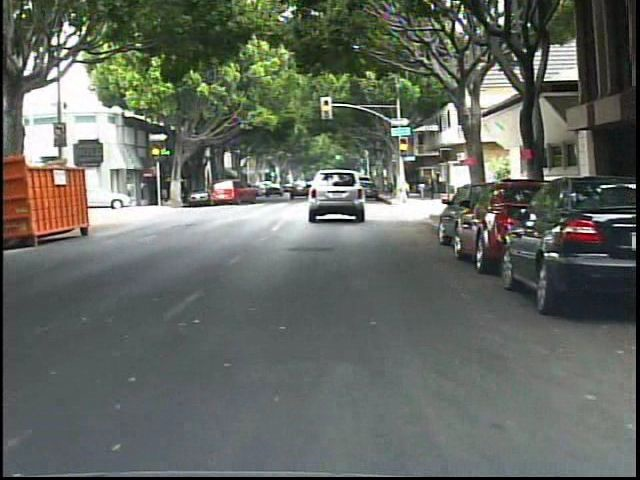person: (416, 172, 428, 201)
